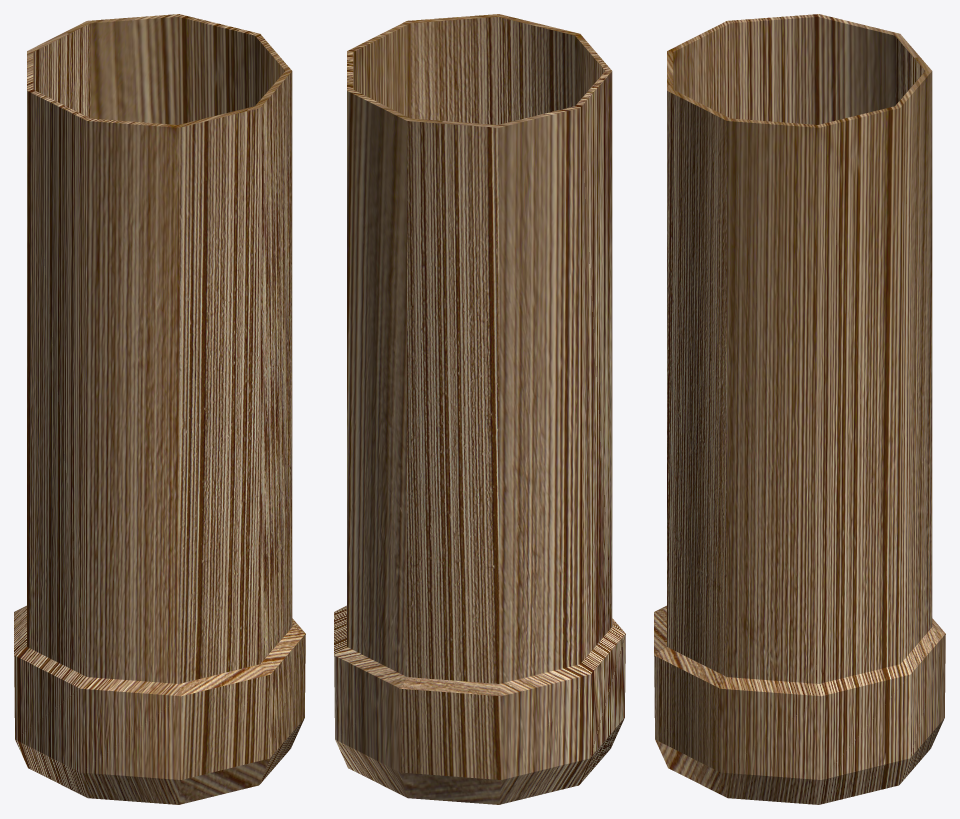
File: Kitchen_SpatulaHolder.FBX
The picture shows the model from 3 angles, left to right: view 1: azimuth 30°, elevation 25°; view 2: azimuth 150°, elevation 25°; view 3: azimuth 270°, elevation 25°; orthographic projection.
Parts seen in each view (by area): view 1: Kitchen_spatula_holder; view 2: Kitchen_spatula_holder; view 3: Kitchen_spatula_holder.
Part boxes in pixels (x1=…): Kitchen_spatula_holder: x1=14, y1=14, x2=305, y2=804; Kitchen_spatula_holder: x1=334, y1=14, x2=625, y2=804; Kitchen_spatula_holder: x1=654, y1=14, x2=945, y2=804.
Size of the model in its own units: 0.1098 by 0.2771 by 0.1081.
